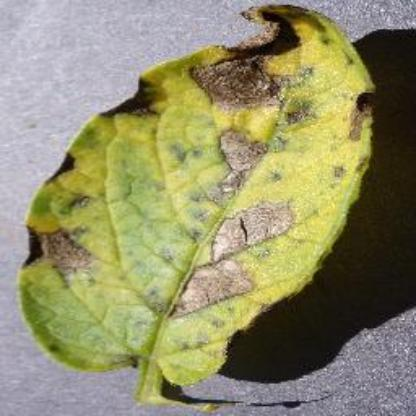Early-Blight: (21, 7, 371, 405)
